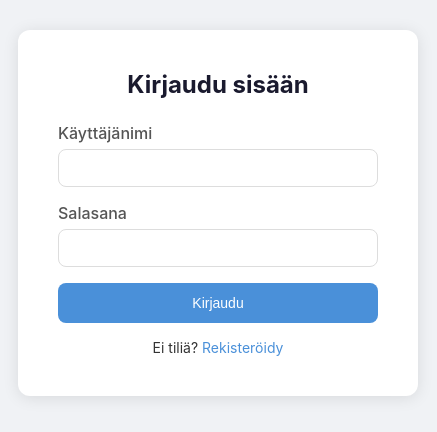
Test case: Login › näyttää virheilmoituksen väärillä tunnuksilla
Type "wrong" into the field.
click(218, 168); type("wrong")  # box [58,149,378,187]
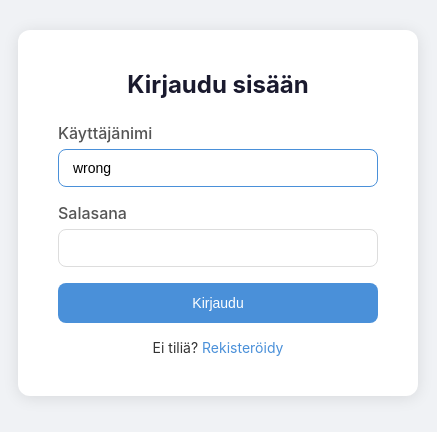
Type "wrong" into the password field.
click(218, 248); type("wrong")  # box [58,229,378,267]
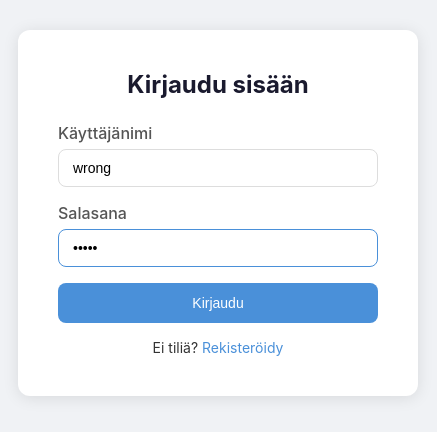
Click the button "Kirjaudu".
click(218, 303)  # box [58,283,378,323]
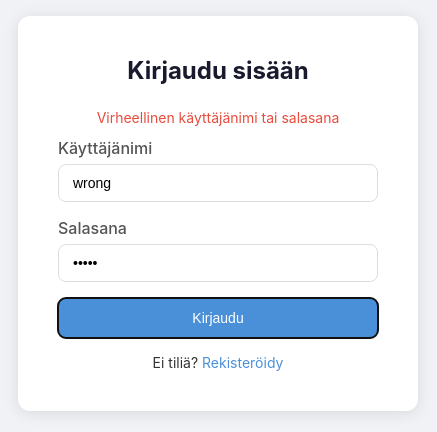
Check: the text "Virheellinen käyttäjänimi tai salasana" is shown, box [97,108,339,126]
